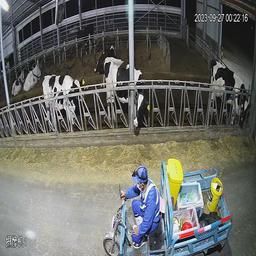cow: (38, 70, 93, 145), (204, 59, 251, 141), (102, 59, 153, 134), (93, 35, 120, 74), (69, 16, 96, 49), (23, 58, 43, 92), (8, 63, 27, 98)
